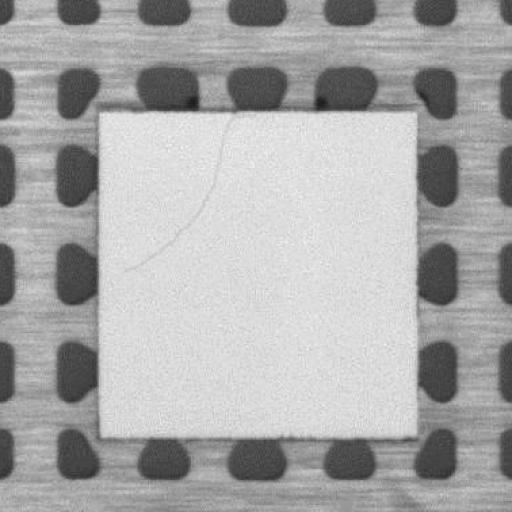DIE_CRACK: (123, 115, 259, 275)
